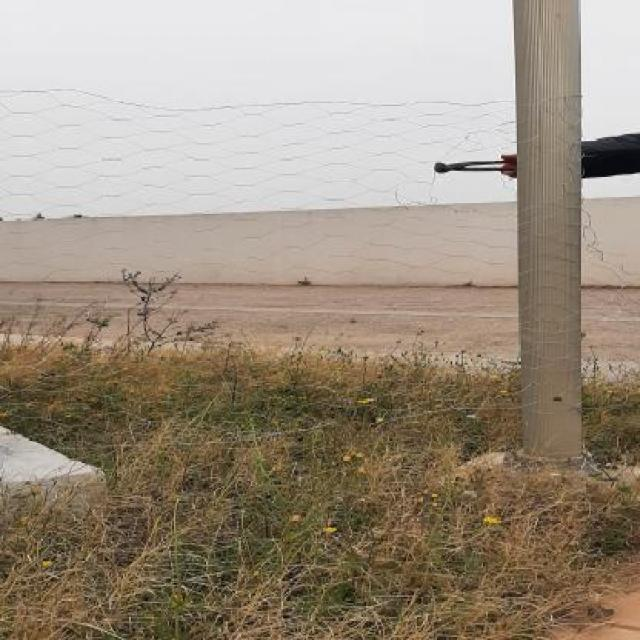fence line: (584, 97, 636, 261)
